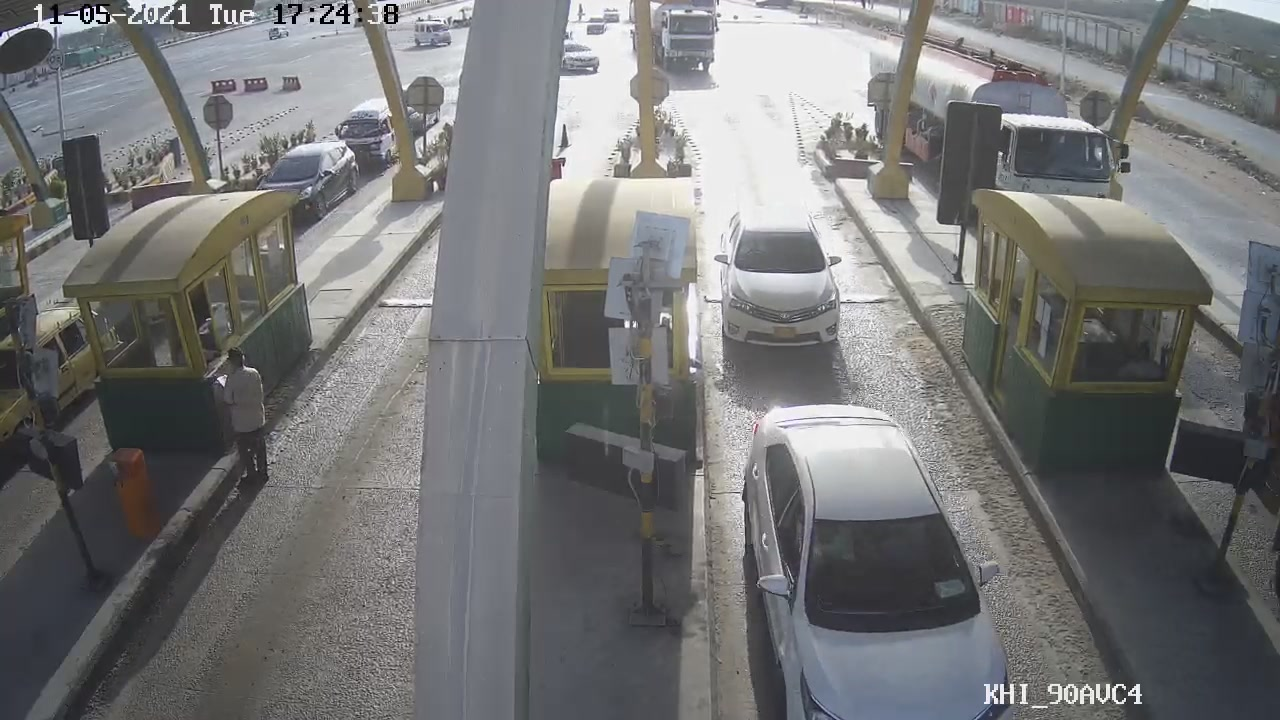F1: (708, 198, 856, 350)
